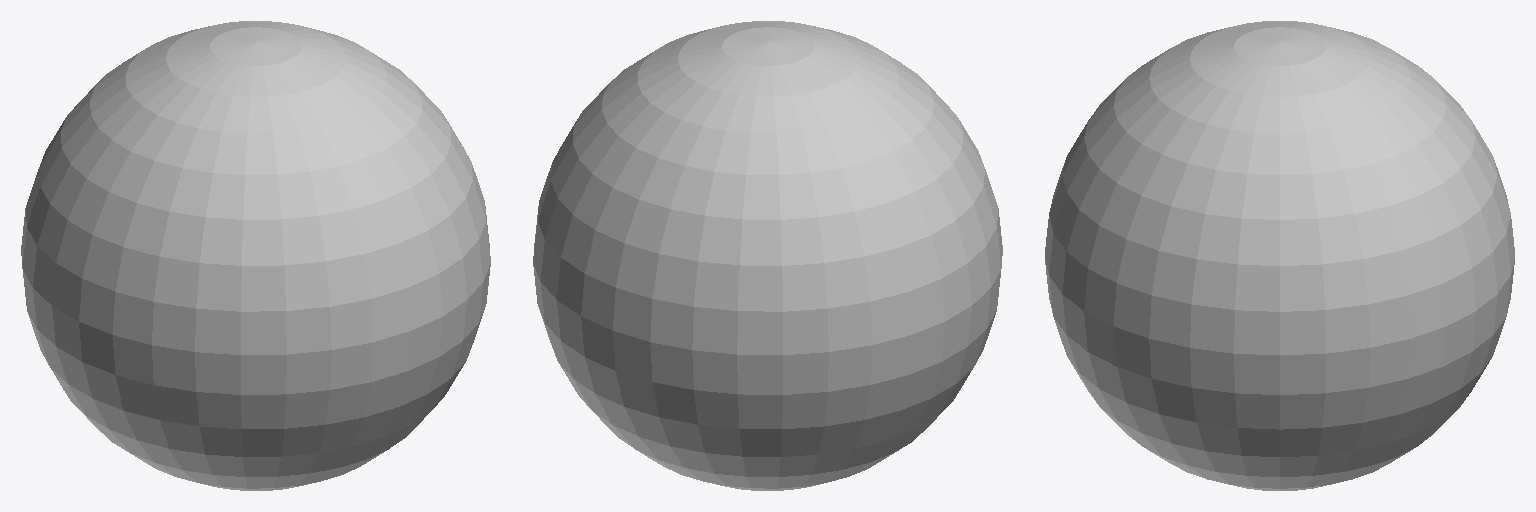
File: sun.obj
The picture shows the model from 3 angles: view 1: azimuth 30°, elevation 25°; view 2: azimuth 150°, elevation 25°; view 3: azimuth 270°, elevation 25°; orthographic projection.
Parts seen in each view (by area): view 1: Sphere; view 2: Sphere; view 3: Sphere.
Boxes of the visible parts, x1,y1,x2,y2 form: Sphere: [21, 21, 490, 490]; Sphere: [533, 21, 1002, 490]; Sphere: [1045, 21, 1514, 490].
Bounding box in the file's own units: 3.31 × 3.31 × 3.31.